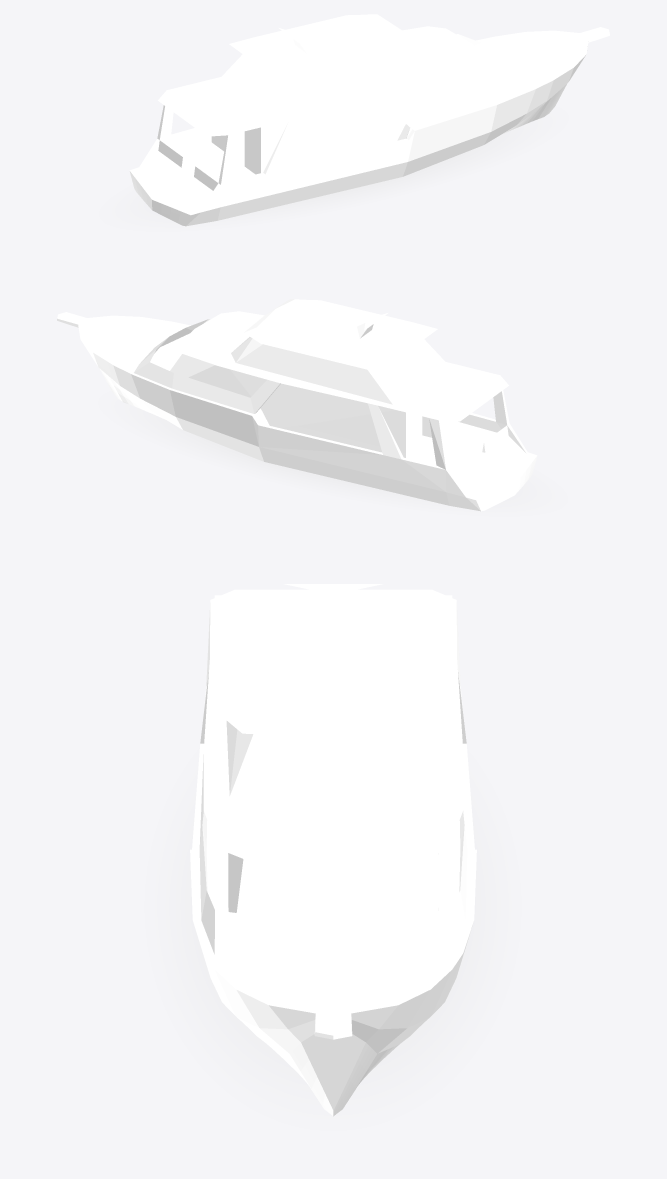
File: AIS_Yacht-A_001.glb
3 renders of one model, top to bottom at view 1: azimuth 30°, elevation 25°; view 2: azimuth 150°, elevation 25°; view 3: azimuth 270°, elevation 25°, orthographic. The views are drawn at different scales.
Parts seen in each view (by area): view 1: AIS_Yacht-A.002, SurfaceGraphic_whiteGlow.005; view 2: AIS_Yacht-A.002, SurfaceGraphic_whiteGlow.005; view 3: AIS_Yacht-A.002, SurfaceGraphic_whiteGlow.005.
Part boxes in pixels (box(x1,y1,x2,y2)): AIS_Yacht-A.002: box(129, 14, 609, 226); SurfaceGraphic_whiteGlow.005: box(137, 123, 531, 220); AIS_Yacht-A.002: box(57, 299, 537, 511); SurfaceGraphic_whiteGlow.005: box(136, 408, 530, 505); AIS_Yacht-A.002: box(190, 584, 476, 1116); SurfaceGraphic_whiteGlow.005: box(175, 817, 490, 1093).
Bounding box in the file's own units: 30.75 × 7.65 × 10.7.
Materials: 2 (1 with a texture image).
